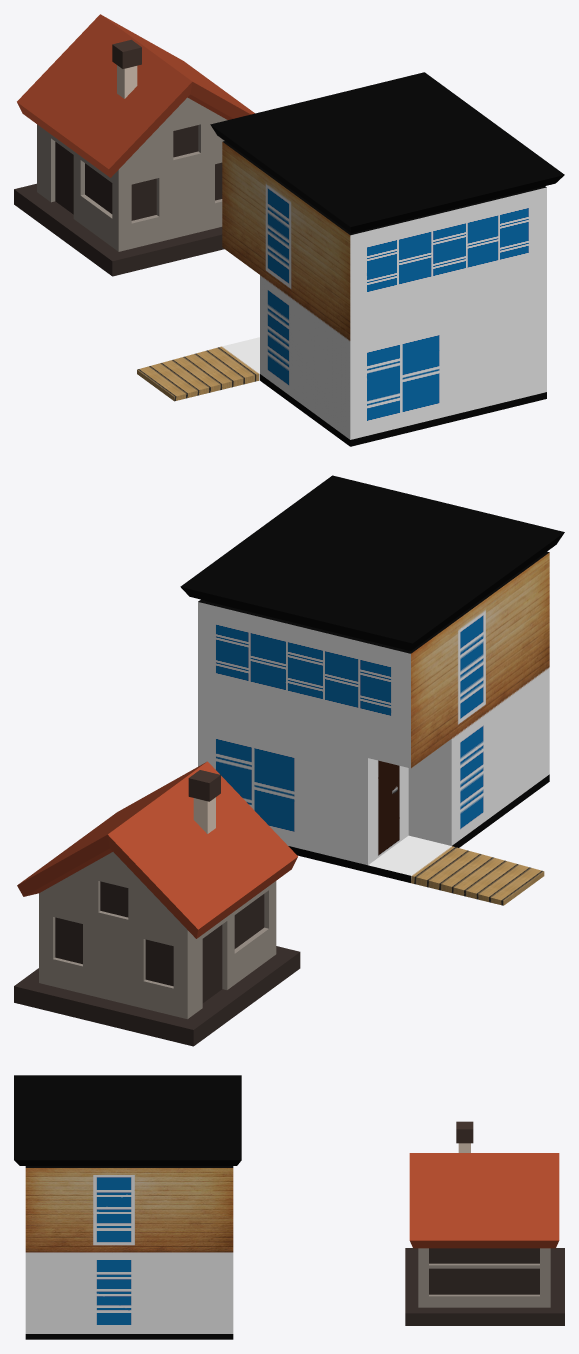
Rendered from Houses.FBX.
3 renders of one model, top to bottom at view 1: azimuth 30°, elevation 25°; view 2: azimuth 150°, elevation 25°; view 3: azimuth 270°, elevation 25°, orthographic. The views are drawn at different scales.
Visible parts, largest first — view 1: Box013, Chotta House; view 2: Box013, Chotta House; view 3: Box013, Chotta House.
Boxes of the visible parts, <box> form: Box013: <box>137,72,564,446</box>; Chotta House: <box>14,14,254,276</box>; Box013: <box>180,475,564,905</box>; Chotta House: <box>14,761,300,1046</box>; Box013: <box>14,1075,241,1339</box>; Chotta House: <box>405,1121,564,1325</box>.
Size of the model in its own units: 102 by 75.11 by 204.
2 materials, 2 textured.
